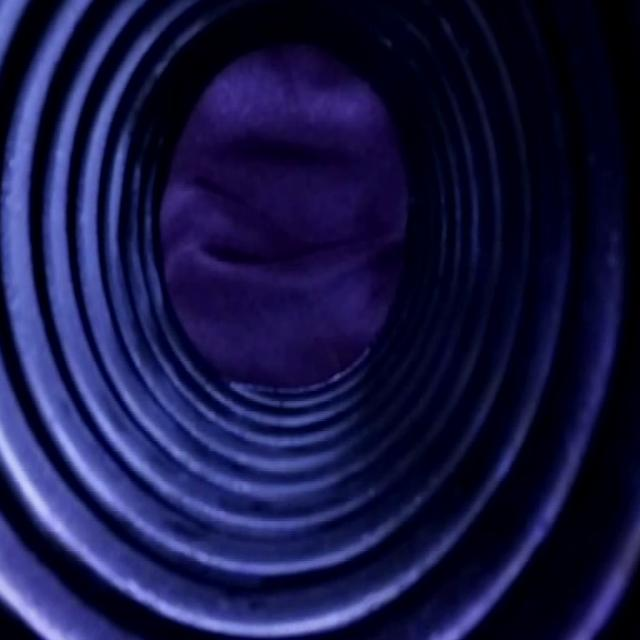block: (156, 47, 411, 391)
